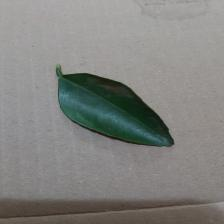healthy: (47, 96, 191, 180)
